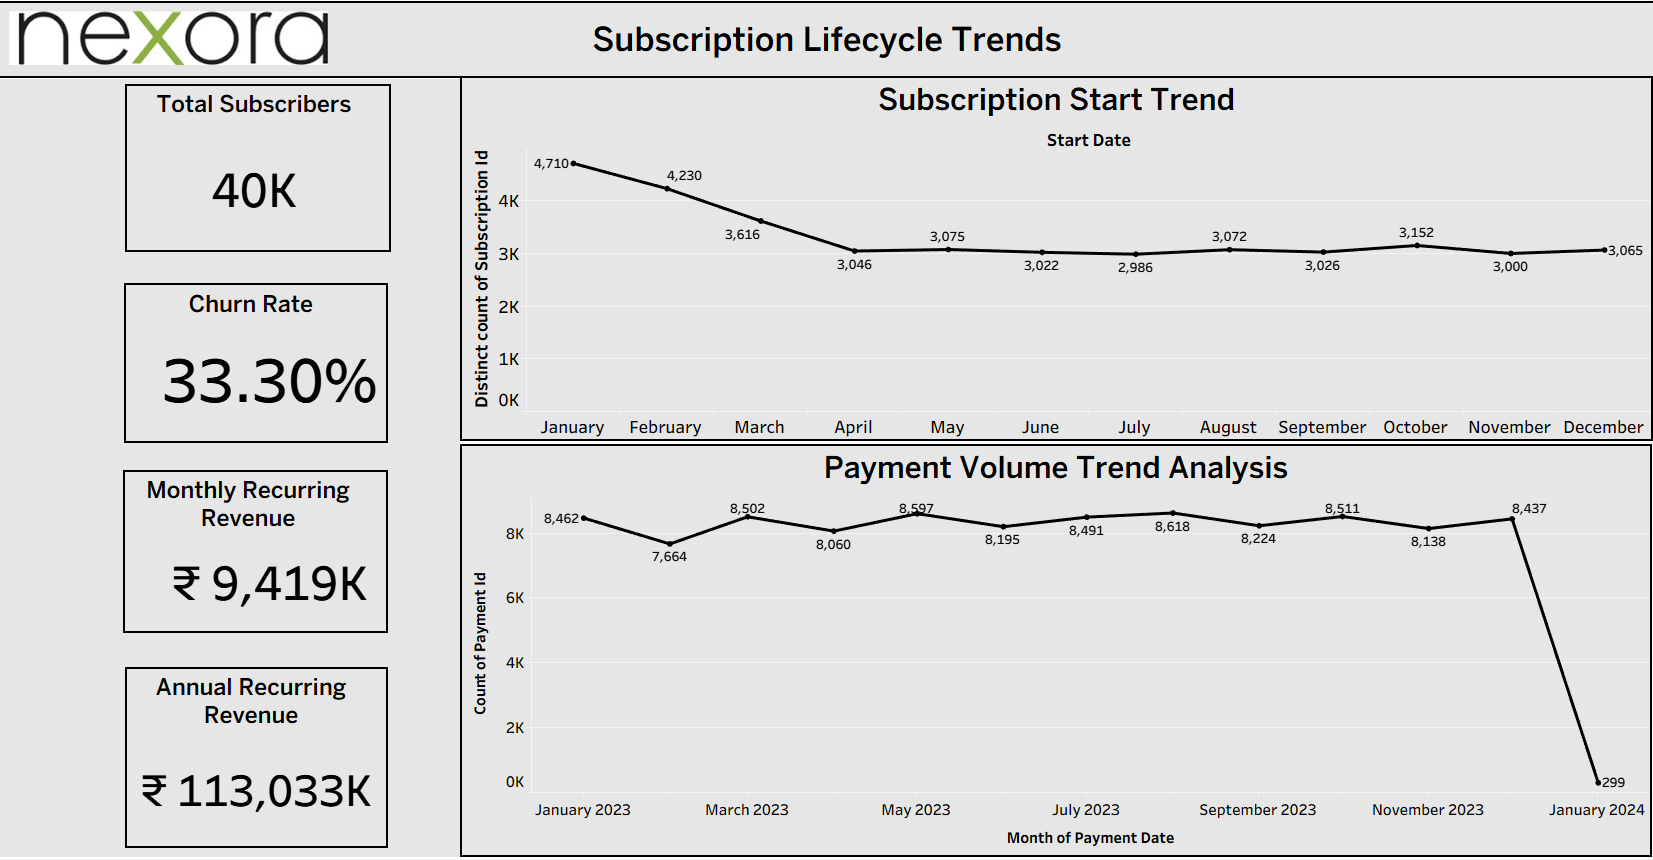

This screenshot's page, from the dashboard's own definition file:
{"tool":"tableau","page":{"name":"Subscription Lifecycle Trends","canvas":[1000,1000],"units":"permille","ordinal":2},"visuals":[{"type":"image","param":"Image/image2.jpg","box":[7.3,14,193.3,69.8]},{"type":"worksheet","title":"Total Subscribers","mark":"Automatic","box":[77.6,98.8,161.2,195.3]},{"type":"worksheet","title":"Churn Rate","mark":"Automatic","box":[77,330.2,160,186.1]},{"type":"worksheet","title":"Monthly Recurring Revenue","mark":"Automatic","box":[76.4,547.7,160.6,189.5]},{"type":"worksheet","title":"Annual Recurring Revenue","mark":"Automatic","box":[77.6,776.7,159.4,210.5]}]}

Visuals, with their boxes on the dashboard's canvas, which has no fixed pixel size, in thousandths of its width and height (x1, y1, x2, y2). These are canvas units, not pixel positions in the 1653x860 screenshot, which may show the page scaled, cropped or inside an application window:
image: bbox=[7, 14, 201, 84]
"Total Subscribers" worksheet: bbox=[78, 99, 239, 294]
"Churn Rate" worksheet: bbox=[77, 330, 237, 516]
"Monthly Recurring Revenue" worksheet: bbox=[76, 548, 237, 737]
"Annual Recurring Revenue" worksheet: bbox=[78, 777, 237, 987]
